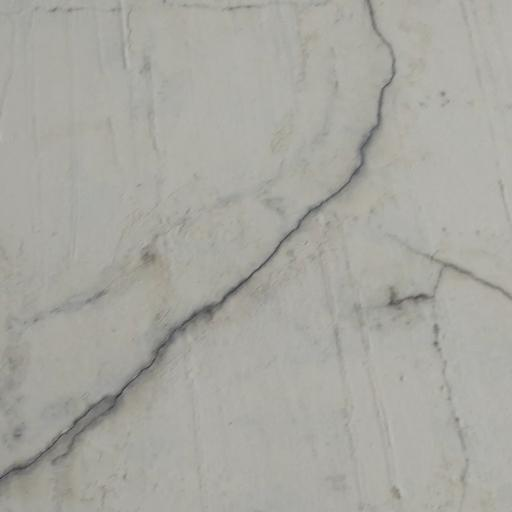major_crack: (0, 0, 502, 512)
